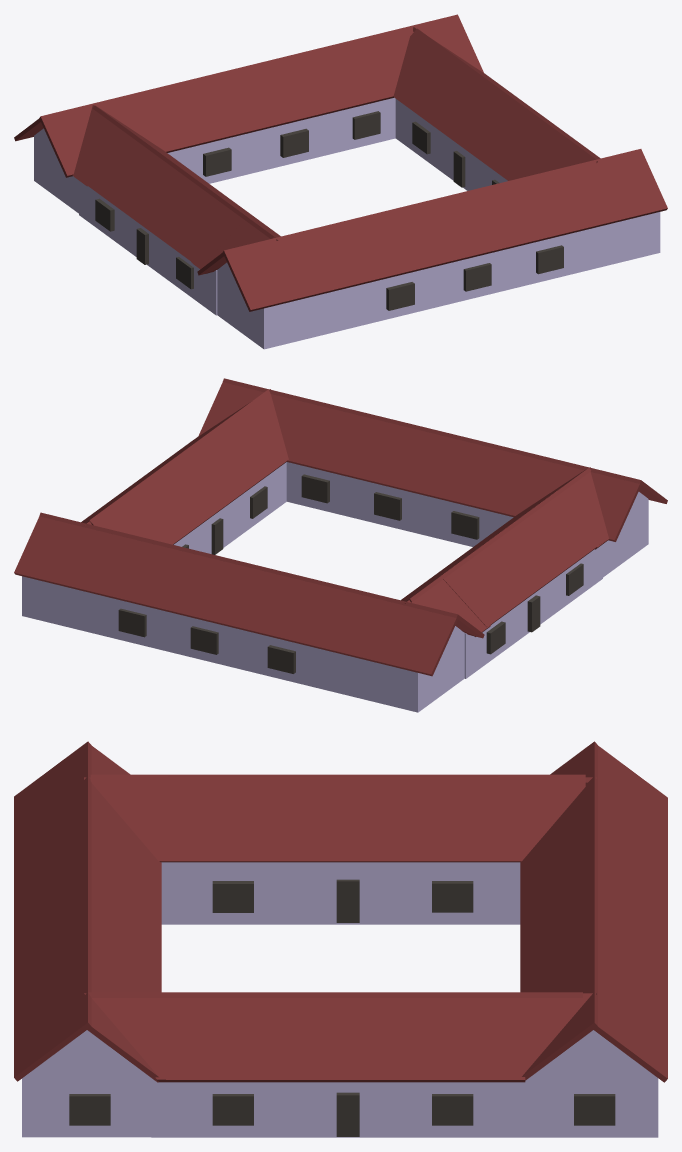
The model's file is villa_west.obj.
The picture shows the model from 3 angles, top to bottom: view 1: azimuth 30°, elevation 25°; view 2: azimuth 150°, elevation 25°; view 3: azimuth 270°, elevation 25°; orthographic projection. The views are drawn at different scales.
Visible parts, largest first — view 1: mesh1184463303.001, mesh1184463303, mesh1224864500.002, mesh1333885264, mesh1333885264.002_mesh1333885264.004, mesh1224864500, mesh622405046.002, mesh622405046, mesh1333885264.001, mesh1912053035.001_mesh1912053035.005, mesh1912053035.002_mesh1912053035.006, mesh387551679.001 (+7 smaller); view 2: mesh1509111848, mesh1509111848.001, mesh1224864500, mesh1333885264, mesh1333885264.002_mesh1333885264.004, mesh1224864500.002, mesh622405046.002, mesh622405046, mesh1184463303, mesh1184463303.001, mesh1333885264.001, mesh1912053035.001_mesh1912053035.005 (+8 smaller); view 3: mesh1333885264.001, mesh1134373055, mesh1184463303.001, mesh1509111848, mesh622405046.002, mesh622405046, mesh1184463303, mesh1509111848.001, mesh1224864500, mesh1224864500.002, mesh1912053035.004, mesh1333885264 (+9 smaller).
Part boxes in pixels (left/top/right/bottom): mesh1184463303.001: left=222, top=149, right=667, bottom=311; mesh1184463303: left=39, top=14, right=483, bottom=177; mesh1224864500.002: left=217, top=212, right=660, bottom=349; mesh1333885264: left=393, top=28, right=595, bottom=180; mesh1333885264.002_mesh1333885264.004: left=81, top=129, right=243, bottom=267; mesh1224864500: left=34, top=97, right=395, bottom=213; mesh622405046.002: left=79, top=181, right=217, bottom=315; mesh622405046: left=395, top=99, right=507, bottom=190; mesh1333885264.001: left=92, top=105, right=280, bottom=238; mesh1912053035.001_mesh1912053035.005: left=72, top=105, right=124, bottom=186; mesh1912053035.002_mesh1912053035.006: left=191, top=220, right=277, bottom=273; mesh387551679.001: left=203, top=147, right=231, bottom=176; mesh1509111848: left=14, top=516, right=457, bottom=676; mesh1509111848.001: left=198, top=382, right=641, bottom=541; mesh1224864500: left=22, top=576, right=464, bottom=712; mesh1333885264: left=87, top=389, right=288, bottom=544; mesh1333885264.002_mesh1333885264.004: left=443, top=491, right=606, bottom=626; mesh1224864500.002: left=286, top=462, right=648, bottom=577; mesh622405046.002: left=464, top=544, right=602, bottom=678; mesh622405046: left=173, top=462, right=286, bottom=553; mesh1184463303: left=39, top=512, right=484, bottom=638; mesh1184463303.001: left=222, top=378, right=667, bottom=503; mesh1333885264.001: left=401, top=468, right=590, bottom=602; mesh1912053035.001_mesh1912053035.005: left=405, top=579, right=490, bottom=636; mesh1333885264.001: left=90, top=774, right=585, bottom=862; mesh1134373055: left=166, top=998, right=525, bottom=1082; mesh1184463303.001: left=14, top=741, right=91, bottom=1081; mesh1509111848: left=592, top=745, right=667, bottom=1082; mesh622405046.002: left=161, top=862, right=520, bottom=924; mesh622405046: left=151, top=1078, right=528, bottom=1137; mesh1184463303: left=520, top=741, right=597, bottom=1080; mesh1509111848.001: left=86, top=746, right=161, bottom=1082; mesh1224864500: left=528, top=1030, right=658, bottom=1137; mesh1224864500.002: left=22, top=1030, right=151, bottom=1137; mesh1912053035.004: left=84, top=993, right=165, bottom=1082; mesh1333885264: left=88, top=992, right=582, bottom=997.
Bounding box in the file's own units: 1.46 × 0.2871 × 1.43.
